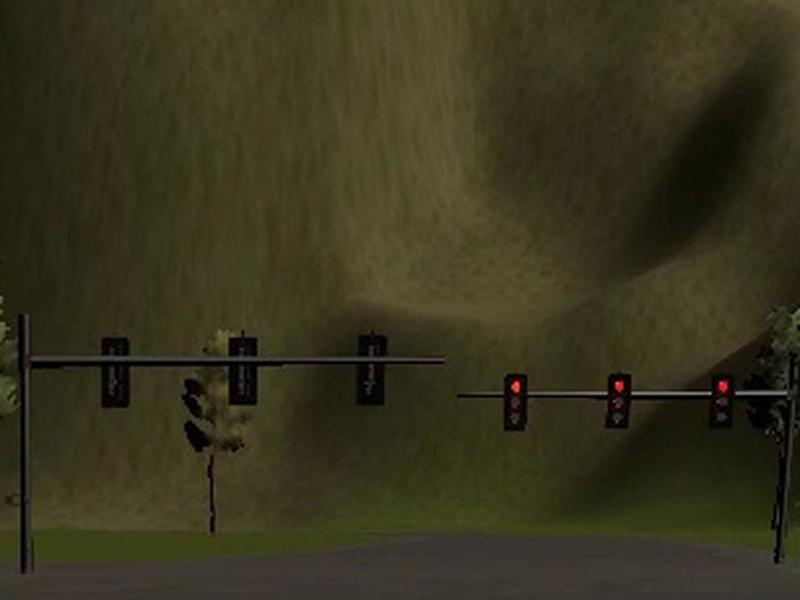Red: (605, 373, 634, 431), (503, 371, 531, 431), (709, 373, 735, 430)
